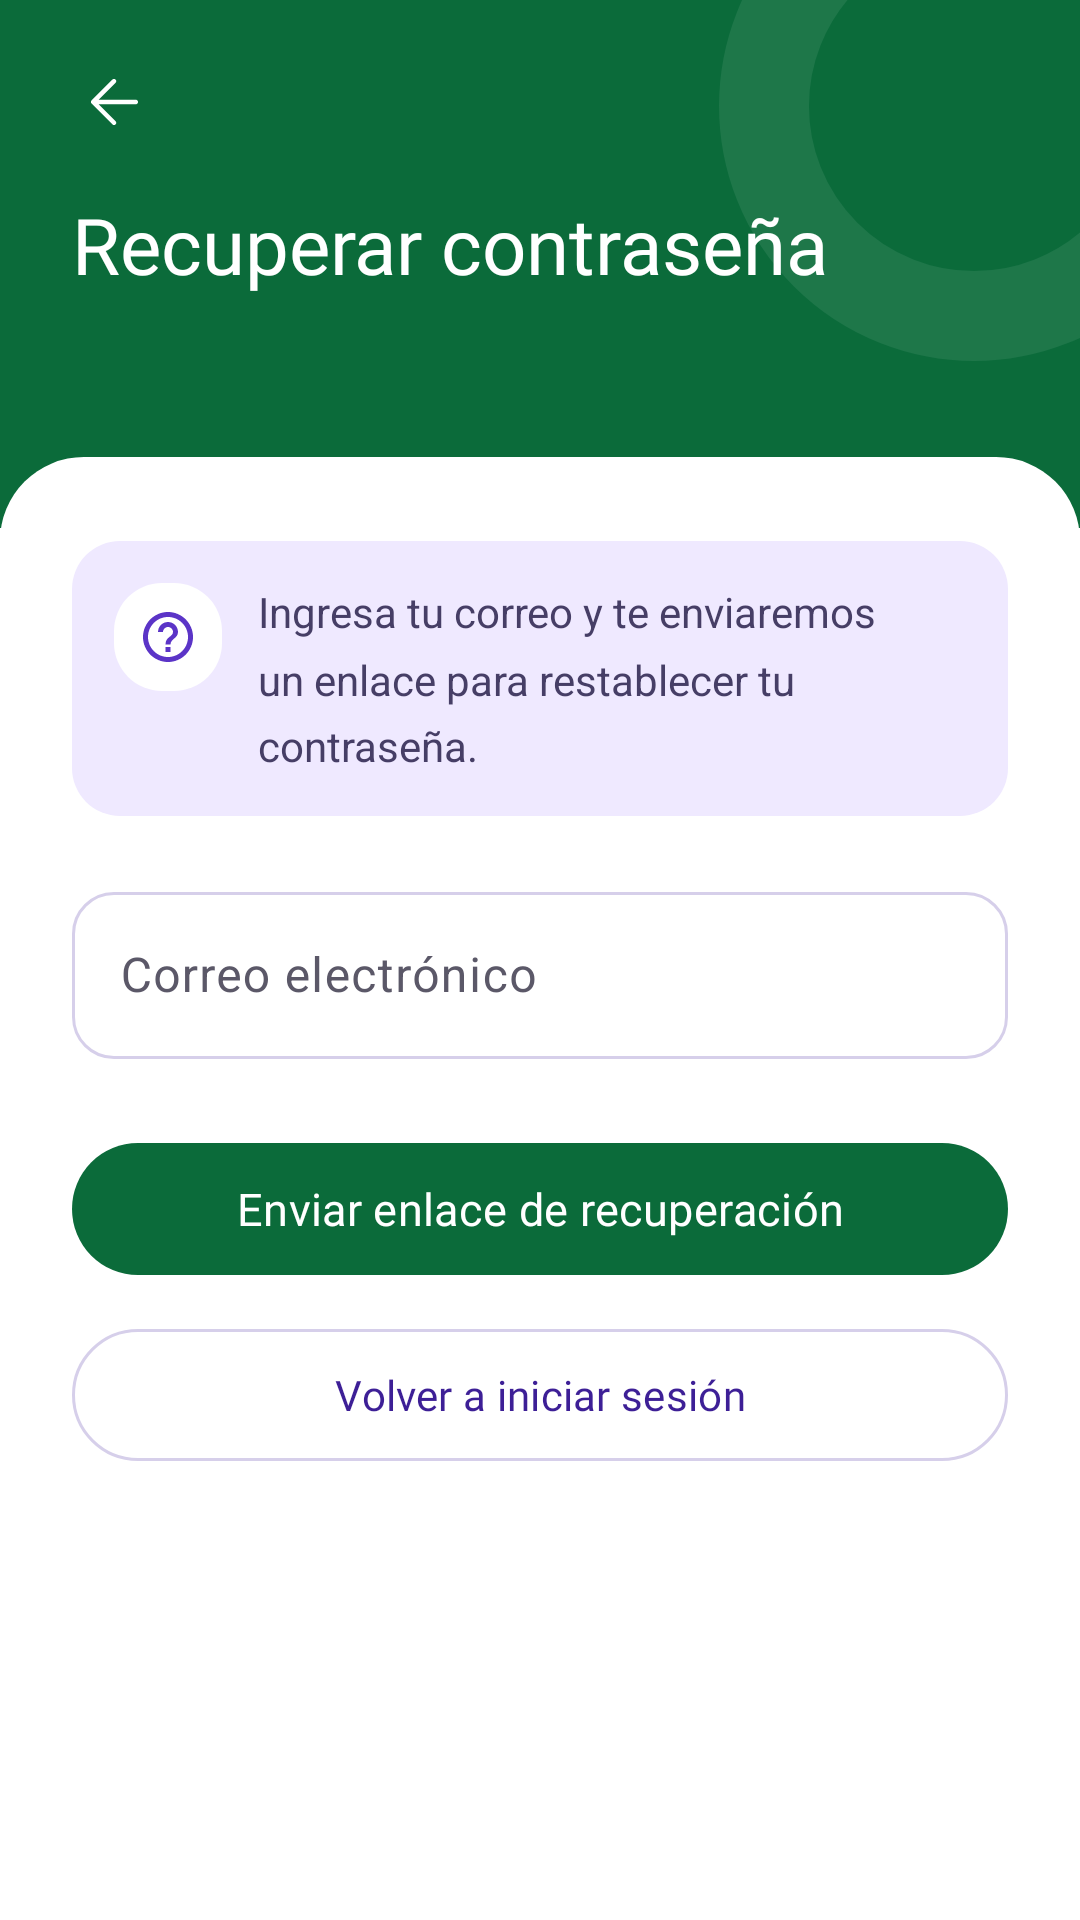

Icons on this 1080 x 1920 Android screen, each with the point to tap as (x=x, y=y):
help: (x=168, y=637)
Volver atrás: (x=114, y=102)
